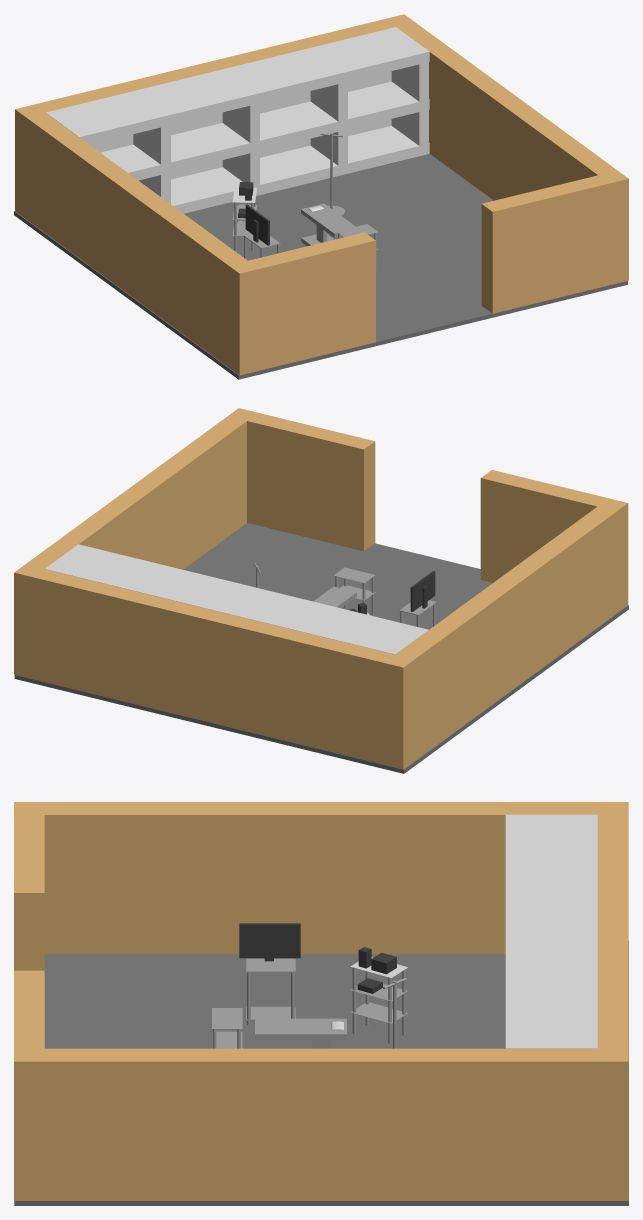
The model's file is Operating_room.fbx.
3 views of the same model, one above another, from view 1: azimuth 30°, elevation 25°; view 2: azimuth 150°, elevation 25°; view 3: azimuth 270°, elevation 25° (orthographic). The views are drawn at different scales.
Parts seen in each view (by area): view 1: wall2, floor1, wall1, wall5, shelf2, wall3, shelf5, shelf1, wall4, wall6, shelf3, shelf6 (+4 smaller); view 2: wall4, wall2, wall1, floor1, wall5, shelf2, wall3, pCube15, pCube3; view 3: wall1, wall2, floor1, shelf2, wall4, wall3, wall5, pCube15, pCube3, pCube13, pCube4, pCube8 (+1 smaller).
Boxes of the visible parts, x1,y1,x2,y2 form: wall2: [15, 104, 259, 375]; floor1: [14, 153, 627, 379]; wall1: [385, 14, 628, 281]; wall5: [481, 171, 628, 313]; shelf2: [46, 27, 429, 144]; wall3: [229, 232, 375, 374]; shelf5: [101, 81, 429, 180]; shelf1: [171, 126, 429, 213]; wall4: [15, 14, 414, 218]; wall6: [90, 71, 391, 179]; shelf3: [391, 52, 428, 145]; shelf6: [310, 72, 347, 172]; wall4: [14, 567, 414, 768]; wall2: [384, 498, 628, 769]; wall1: [14, 408, 257, 678]; floor1: [14, 523, 628, 773]; wall5: [230, 408, 375, 551]; shelf2: [45, 544, 428, 654]; wall3: [480, 470, 628, 612]; pCube15: [410, 571, 435, 611]; pCube3: [313, 586, 356, 608]; wall1: [14, 1048, 628, 1200]; wall2: [14, 802, 628, 954]; floor1: [14, 941, 628, 1205]; shelf2: [505, 814, 597, 1048]; wall4: [597, 802, 628, 1200]; wall3: [14, 802, 44, 970]; wall5: [14, 970, 44, 1200]; pCube15: [239, 923, 300, 958]; pCube3: [255, 1018, 346, 1039]; pCube13: [246, 958, 295, 972]; pCube4: [212, 1008, 242, 1028]; pCube8: [350, 1002, 407, 1023].
Size of the model in its own units: 100 by 26.05 by 100.
